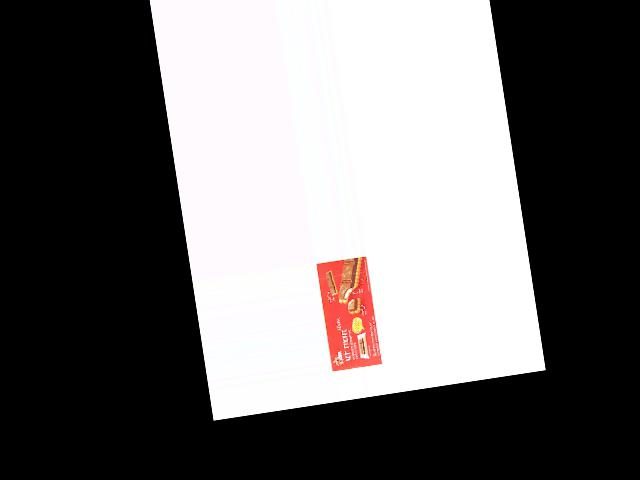chocolate: (315, 255, 383, 373)
